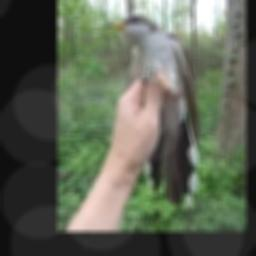Cuckoo: (105, 14, 199, 204)
